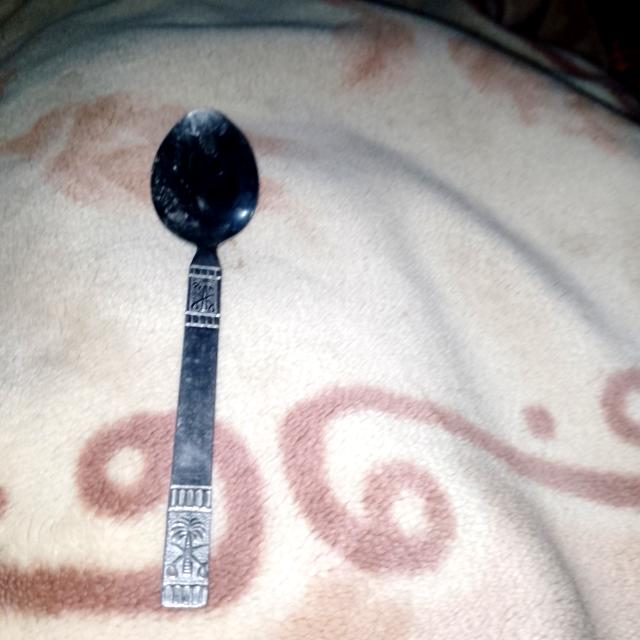Spoon: (152, 111, 258, 607)
